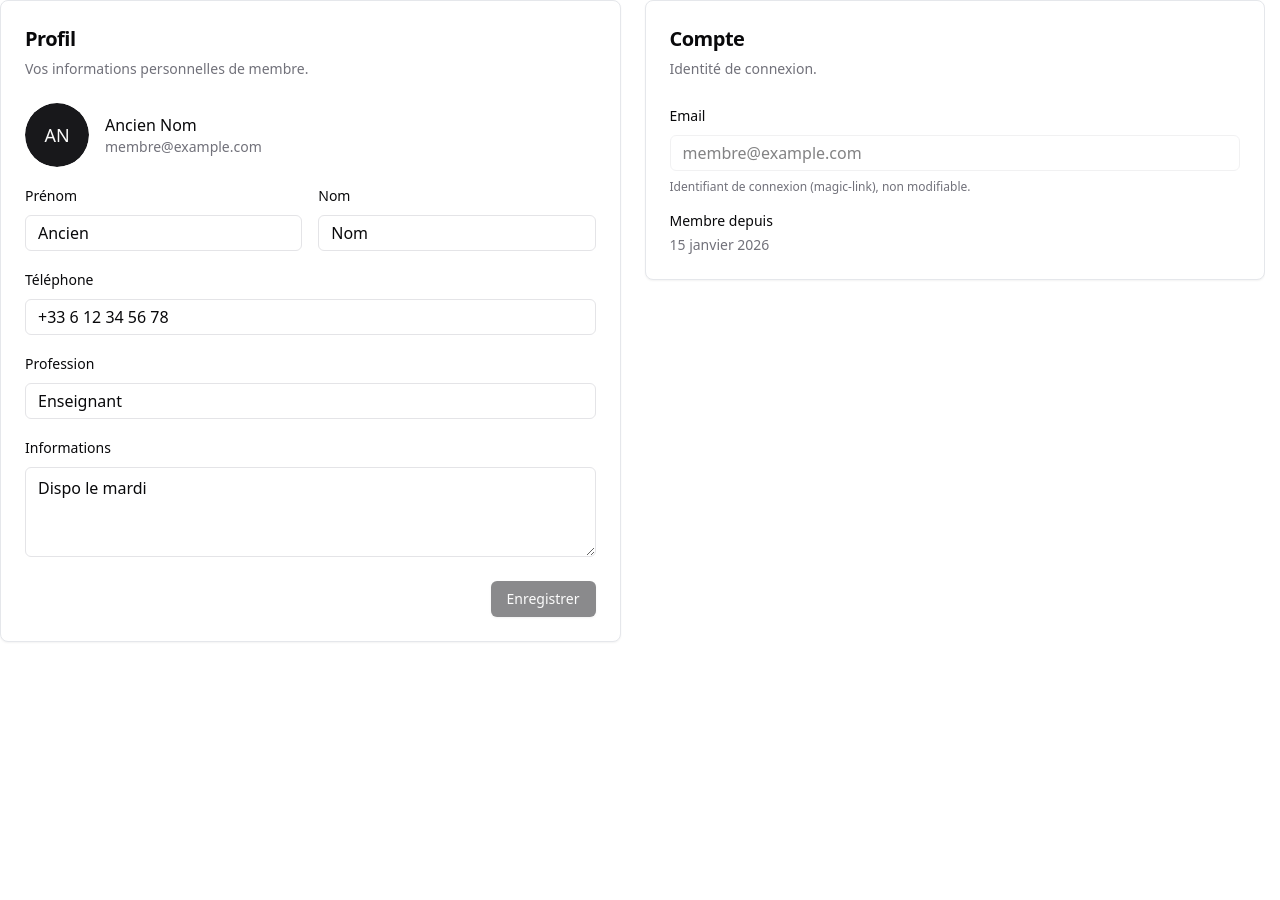
ProfileContent › téléphone invalide : message annoncé et rattaché au champ
Type "123" into the field labelled "Téléphone" at point(310, 317), box [25, 299, 596, 335]
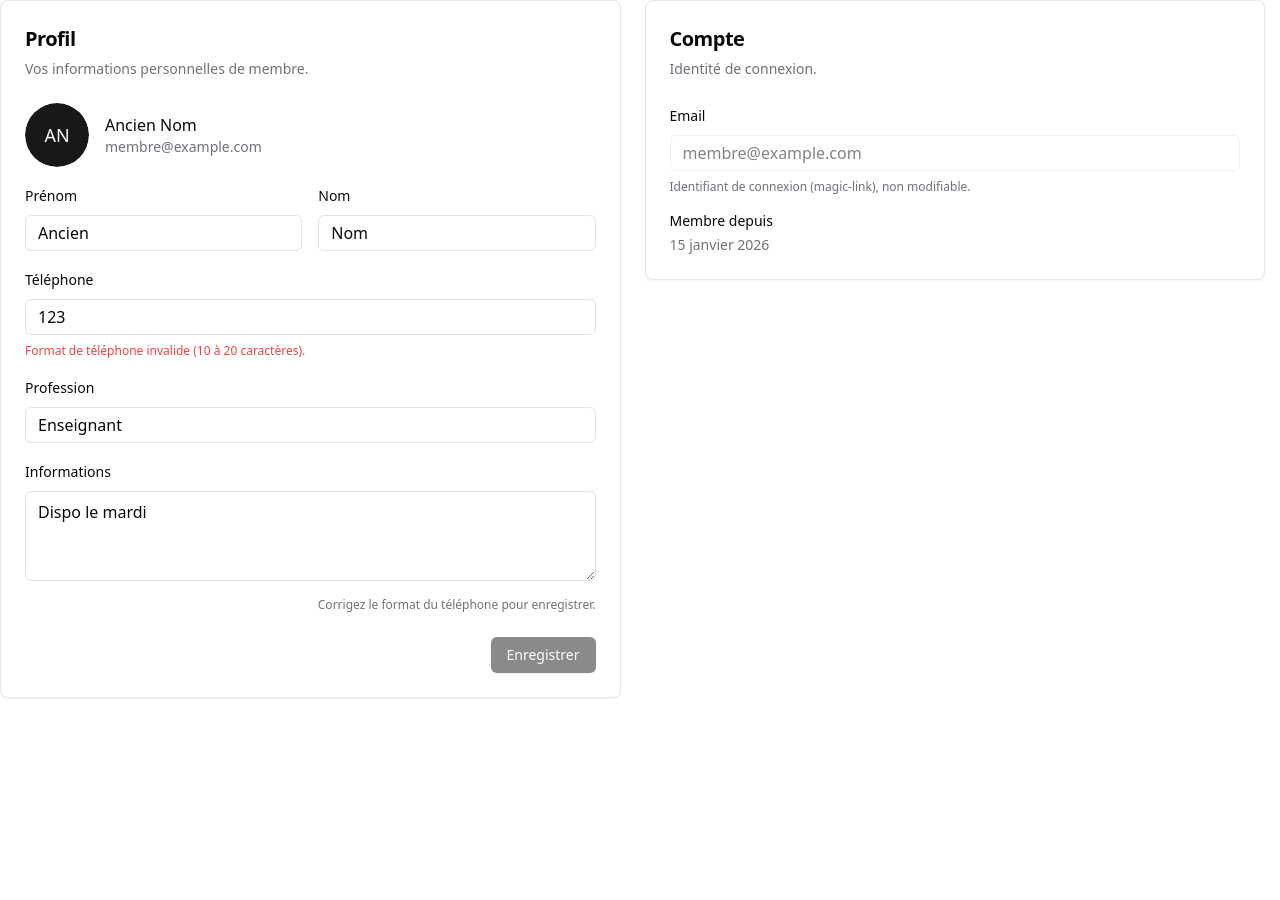
Result: the message shows "Format de téléphone invalide" at [25, 342, 305, 359]
